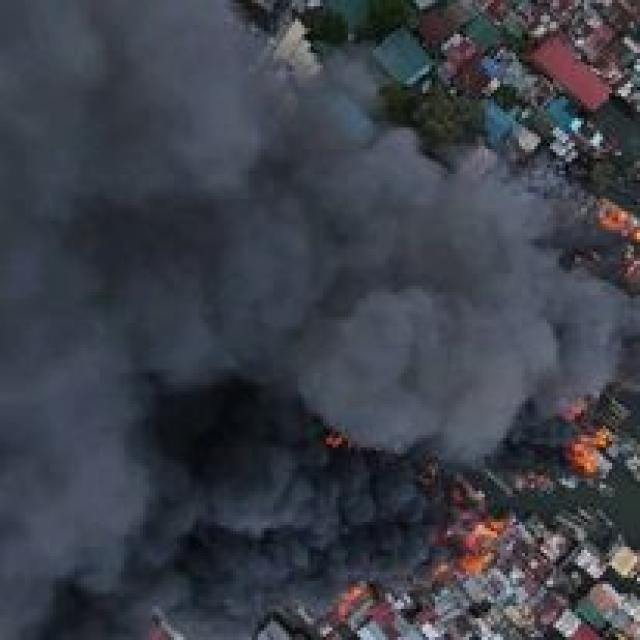Fire: (450, 516, 500, 565), (568, 434, 614, 476)
Smoke: (0, 1, 388, 606), (358, 162, 639, 434)
